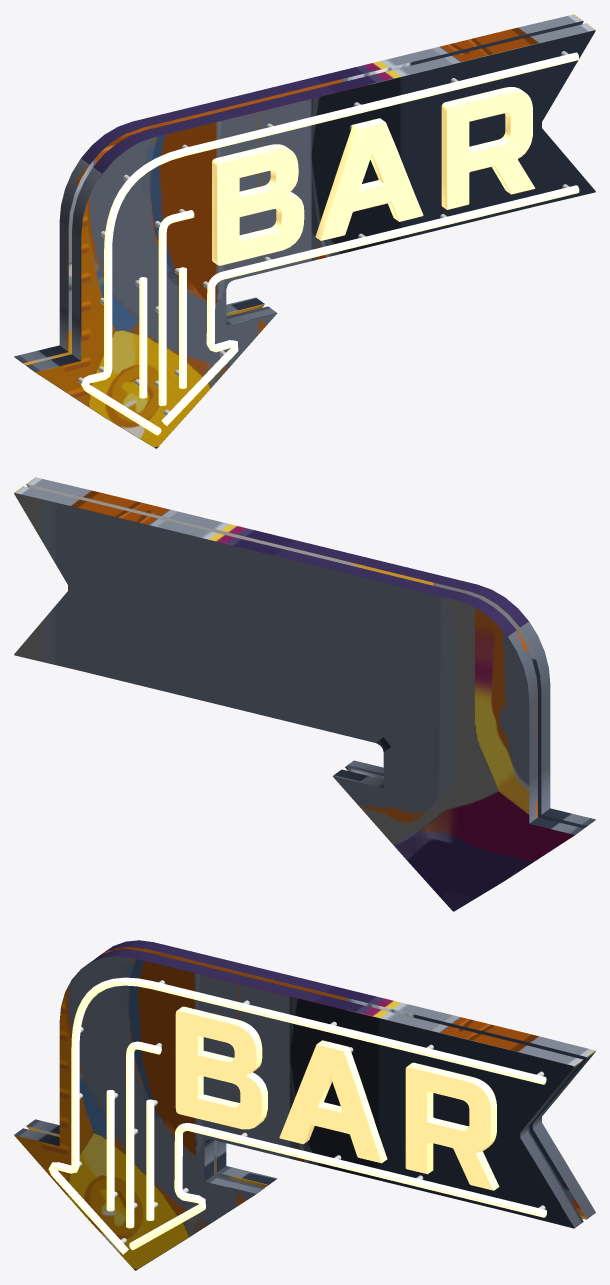
The model's file is bar.fbx.
3 views of the same model, one above another, from view 1: azimuth 30°, elevation 25°; view 2: azimuth 150°, elevation 25°; view 3: azimuth 330°, elevation 25° (orthographic).
Visible parts, largest first — view 1: arrow, bar; view 2: arrow; view 3: arrow, bar.
Part boxes in pixels (x1,y1,x2,y2): arrow: (14, 14, 595, 448); bar: (212, 87, 535, 265); arrow: (14, 477, 595, 911); arrow: (14, 940, 595, 1270); bar: (175, 1006, 499, 1190).
Bounding box in the file's own units: 159 × 84.76 × 15.51.
